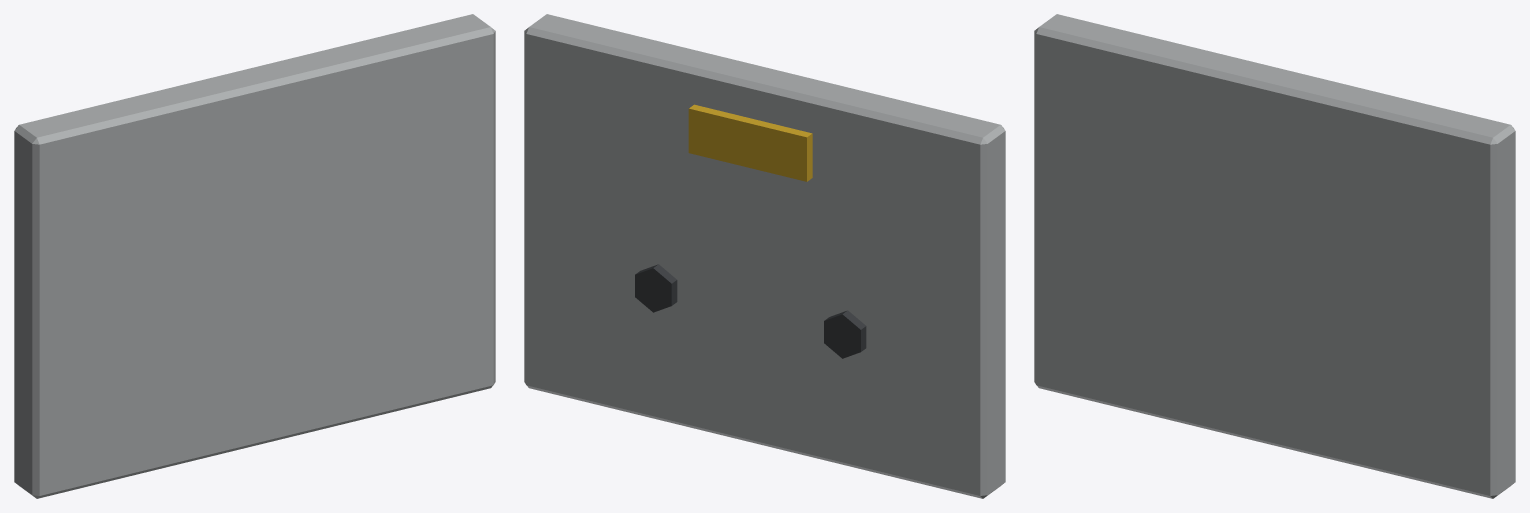
The model's file is prop_of_box_door_s.glb.
The picture shows the model from 3 angles, left to right: view 1: azimuth 30°, elevation 25°; view 2: azimuth 150°, elevation 25°; view 3: azimuth 330°, elevation 25°; orthographic projection.
Visible parts, largest first — view 1: Door; view 2: Door; view 3: Door.
Boxes of the visible parts, x1=… form: Door: x1=14, y1=14, x2=495, y2=498; Door: x1=524, y1=14, x2=1005, y2=498; Door: x1=1034, y1=14, x2=1515, y2=498.
Size of the model in its own units: 0.196 by 0.146 by 0.021.
